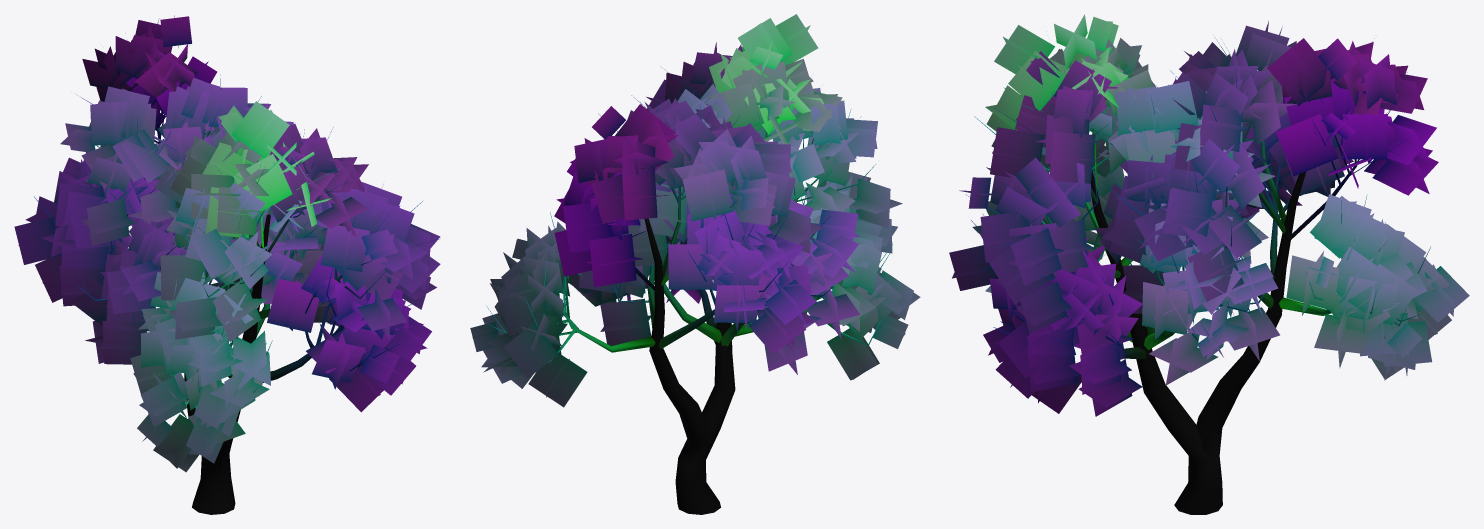
File: foliage_tree_large_007.fbx
The picture shows the model from 3 angles, left to right: view 1: azimuth 30°, elevation 25°; view 2: azimuth 150°, elevation 25°; view 3: azimuth 270°, elevation 25°; orthographic projection. The views are drawn at different scales.
Visible parts, largest first — view 1: tree4; view 2: tree4; view 3: tree4.
Part boxes in pixels (<box>): tree4: <box>14,15,440,514</box>; tree4: <box>470,14,920,514</box>; tree4: <box>949,14,1469,514</box>.
Bounding box in the file's own units: 808 × 1127 × 1094.
